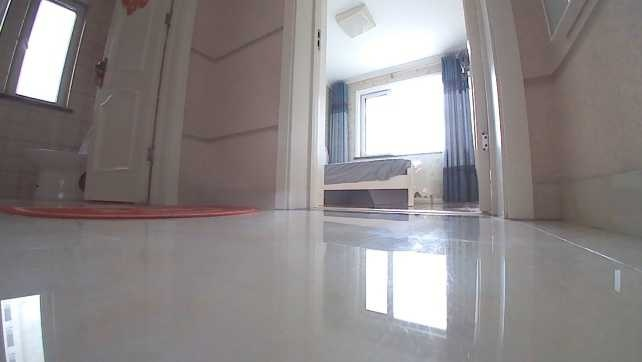bed1: (324, 155, 419, 205)
blanket: (0, 202, 264, 222)
door_anno: (80, 0, 195, 205)
toilet: (25, 128, 93, 204)
